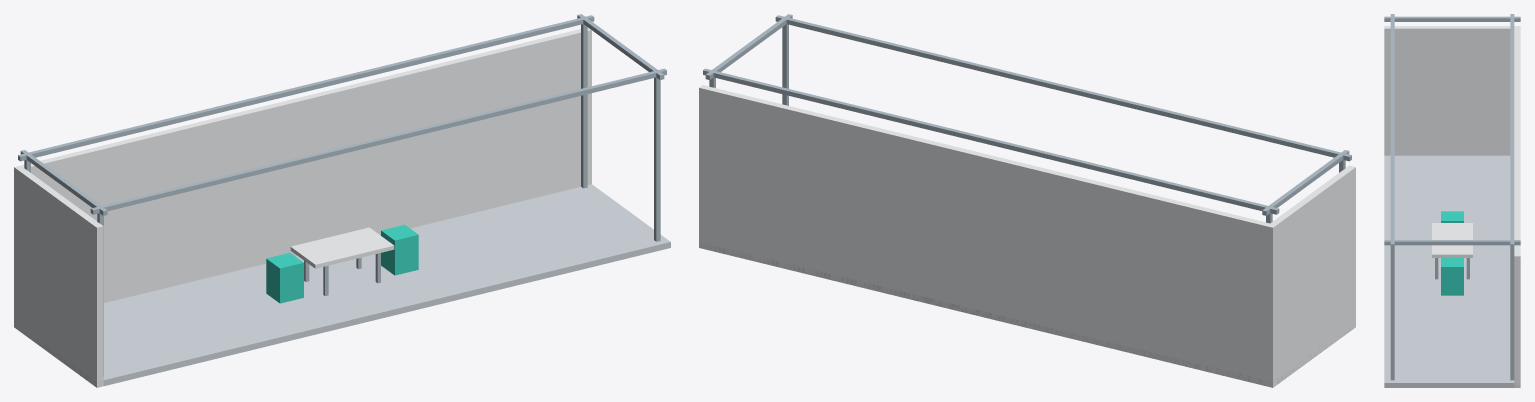
The picture shows the model from 3 angles, left to right: view 1: azimuth 30°, elevation 25°; view 2: azimuth 150°, elevation 25°; view 3: azimuth 270°, elevation 25°; orthographic projection. The views are drawn at different scales.
Visible parts, largest first — view 1: Exhibition Booth Concept; view 2: Exhibition Booth Concept; view 3: Exhibition Booth Concept.
Part boxes in pixels (x1,y1,x2,y2): Exhibition Booth Concept: (14,14,670,387); Exhibition Booth Concept: (699,14,1355,387); Exhibition Booth Concept: (1384,14,1520,387).
Bounding box in the file's own units: 12 × 3.49 × 3.
